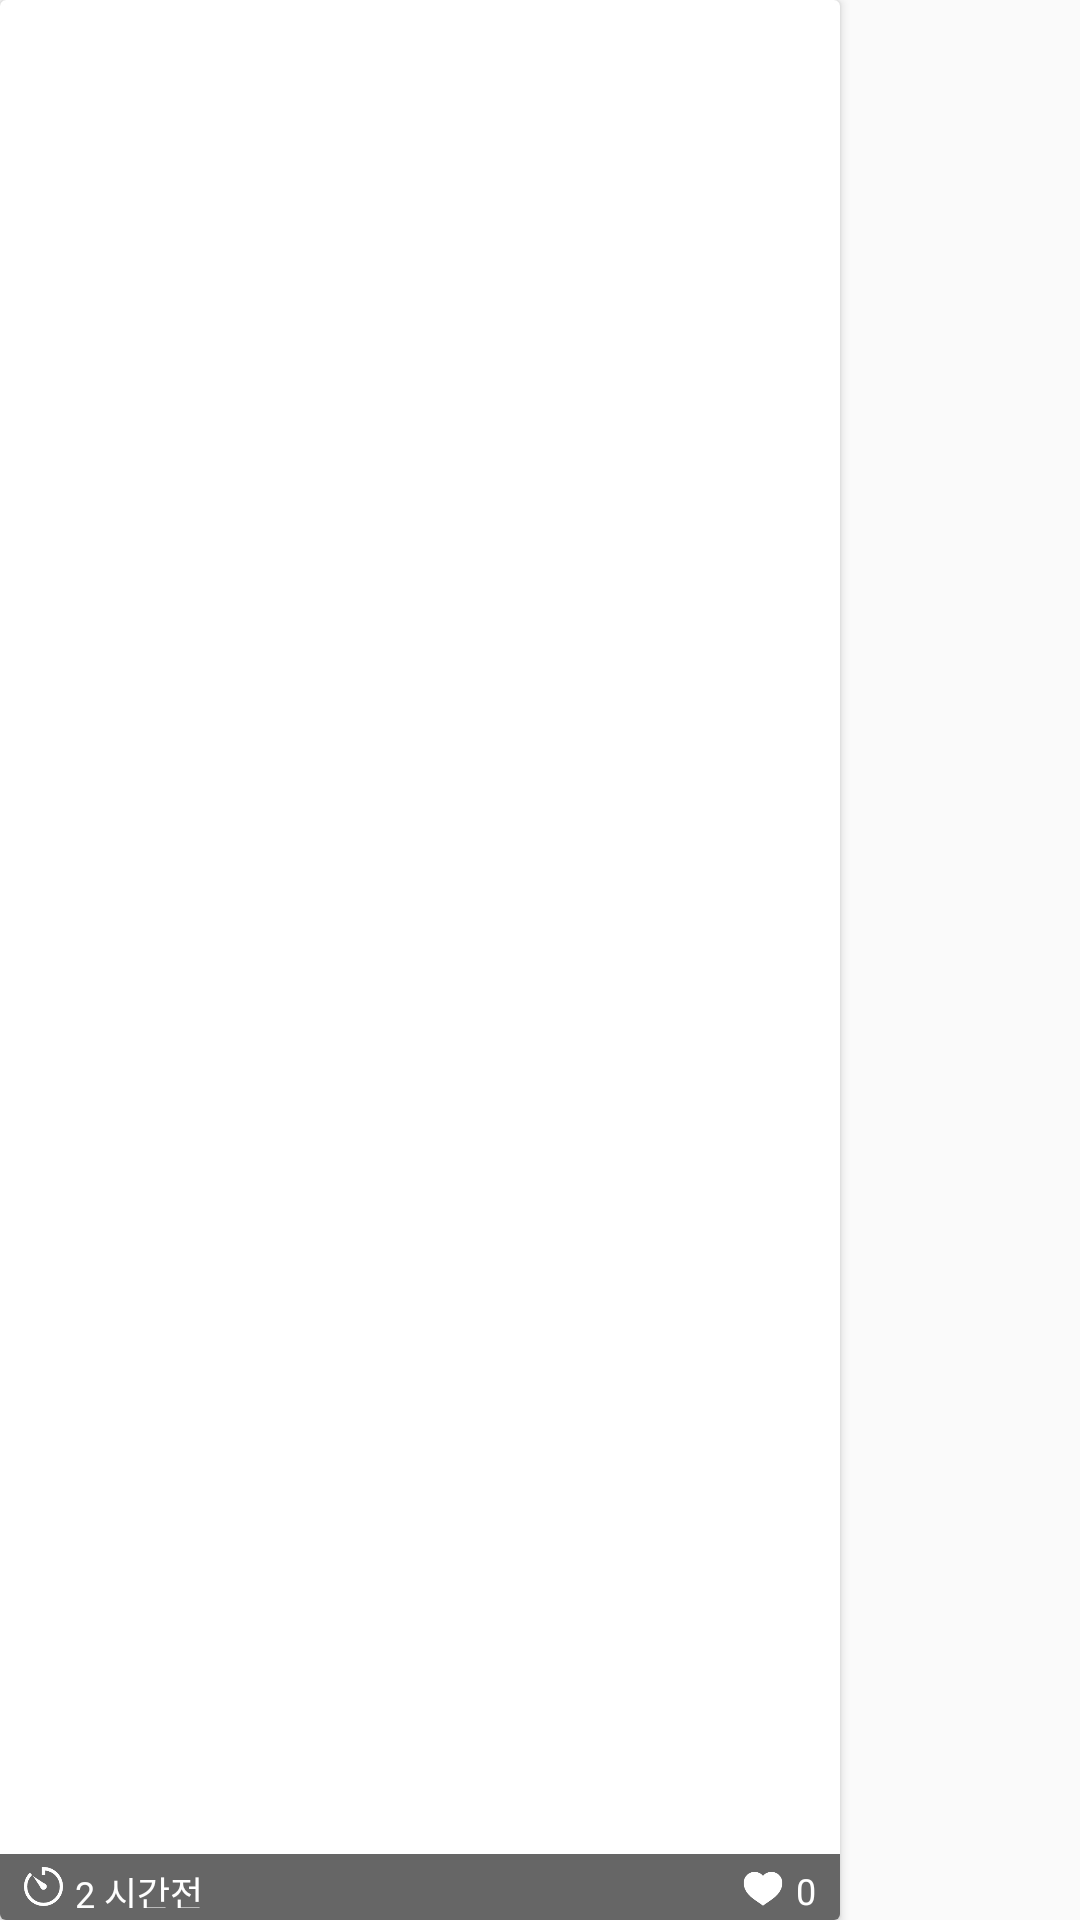

Where to tap for icons on this 1080×1920 app screen, as [x,y]:
like: [763,1889]
time: [43,1886]
